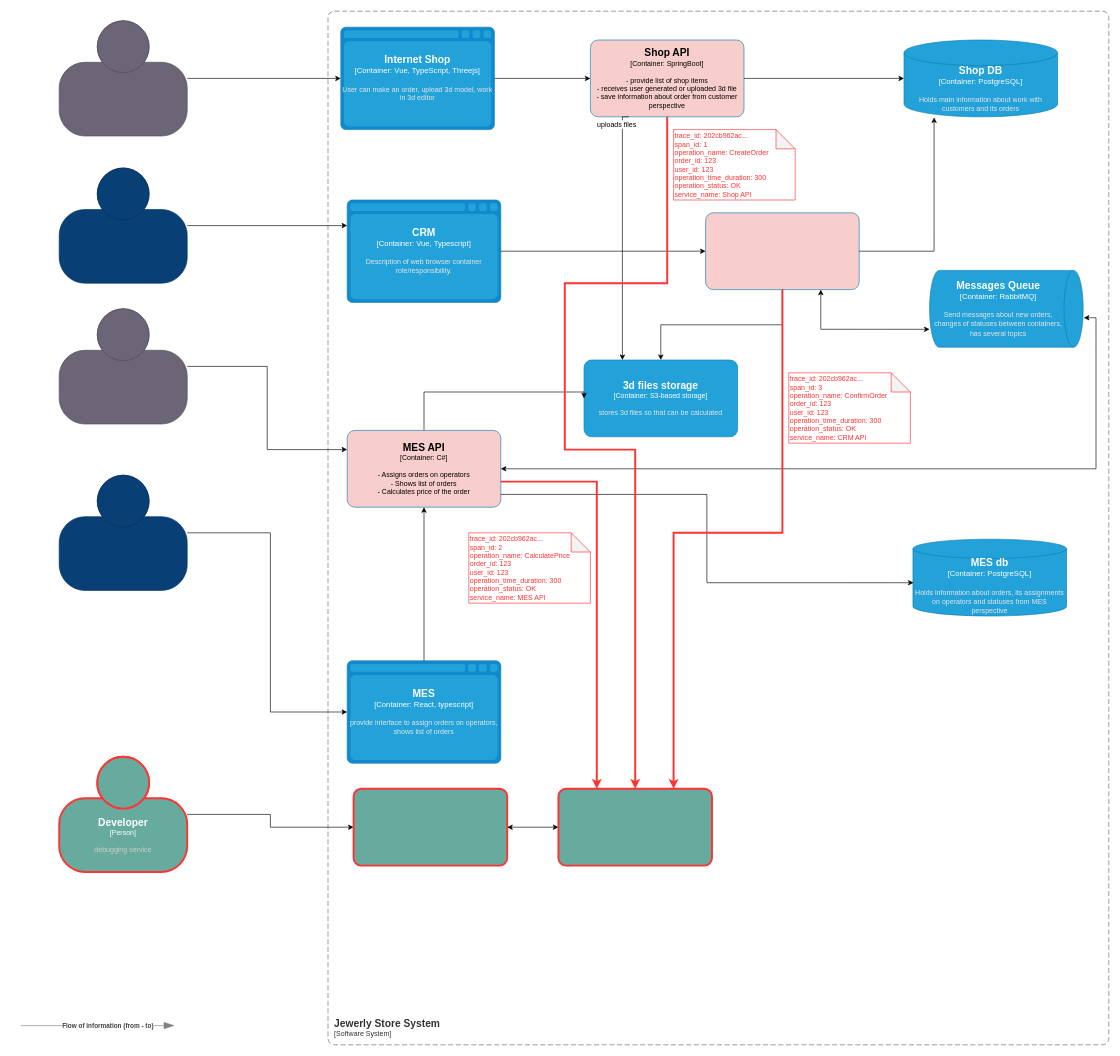
This 1120x1056 diagram has some shape labels left out. Here are the shapes that lost their labels. From the top down, the centre of each, then its label:
pixel 123 78: Customer [Person] Description of external person.
pixel 123 225: Seller [Person] Operates with order, confirms manufacturing for the user
pixel 782 251: CRM API [Container: SpringBoot] Description of container role/responsibility.
pixel 123 366: API user [Person] Description of external person.
pixel 123 532: Operator [Person] Takes order in work, manufactures jewerly
pixel 430 827: Jaeger UI [Container: React, JS, TS] Shows UI to interact with Jaeger Collector
pixel 635 827: Jaeger Collector [Container: GO] Tracing Platform
